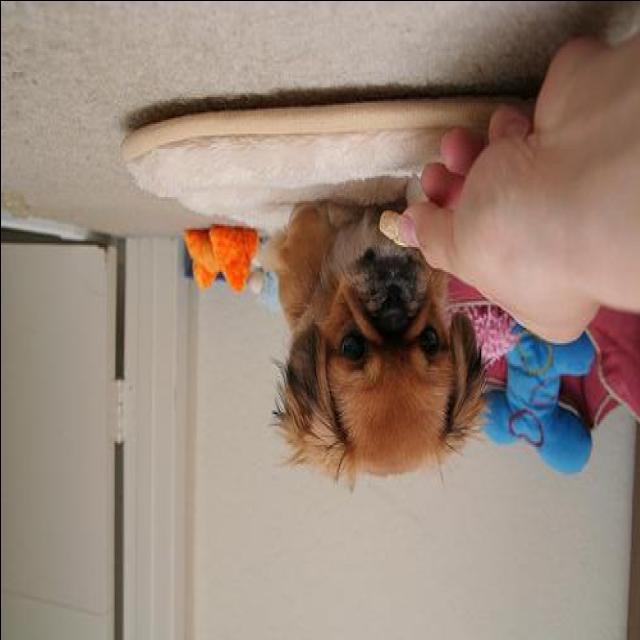pekinese: (268, 184, 491, 494)
